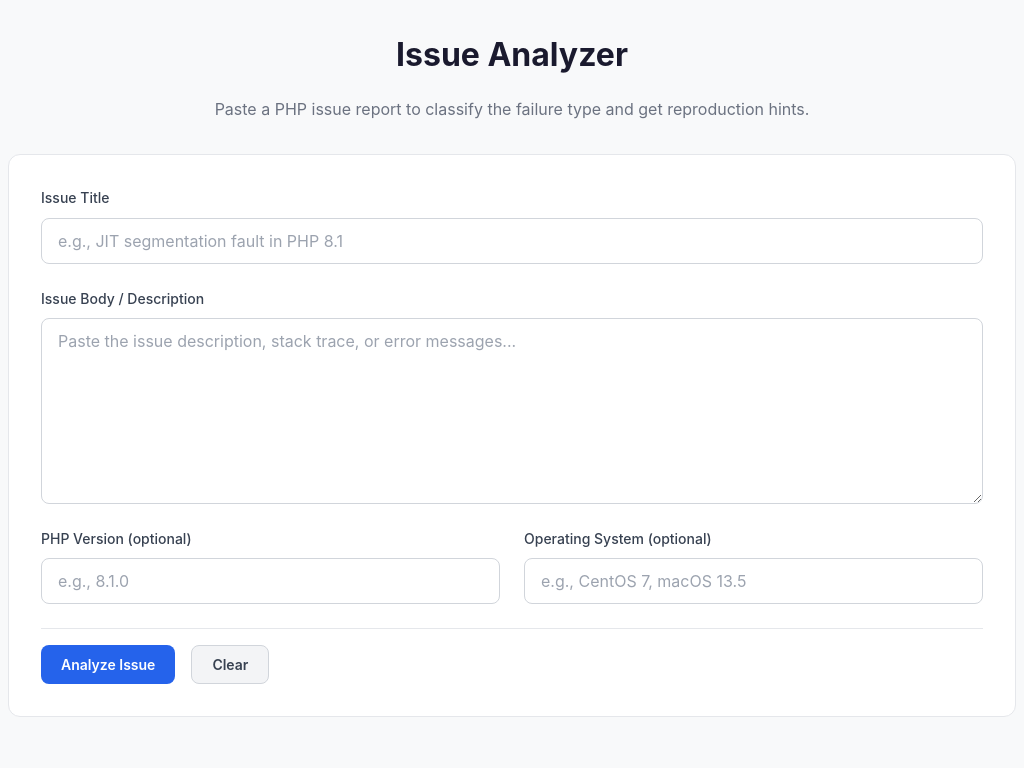
Test: IssueAnalyzer › displays error message on API failure
Type "Test issue" into the field labelled "Issue Title" at (512, 241), box [41, 218, 983, 264]
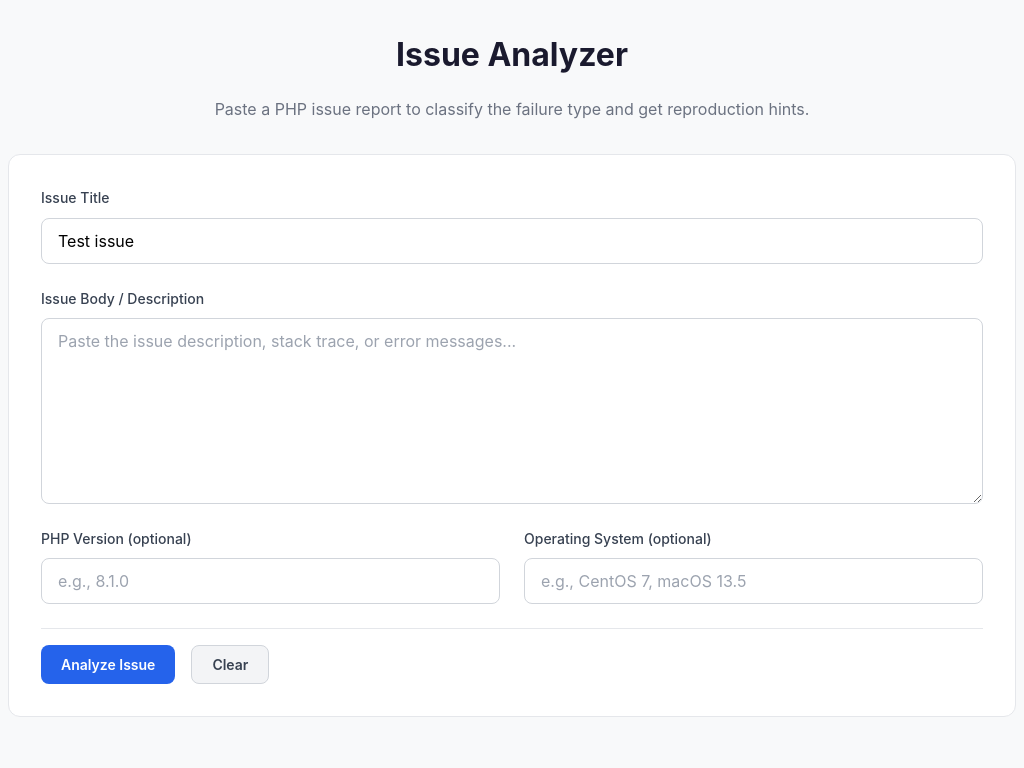
Replace the text in the text box labelled "Issue Body / Description" with "Test body" at (512, 411), box [41, 318, 983, 504]
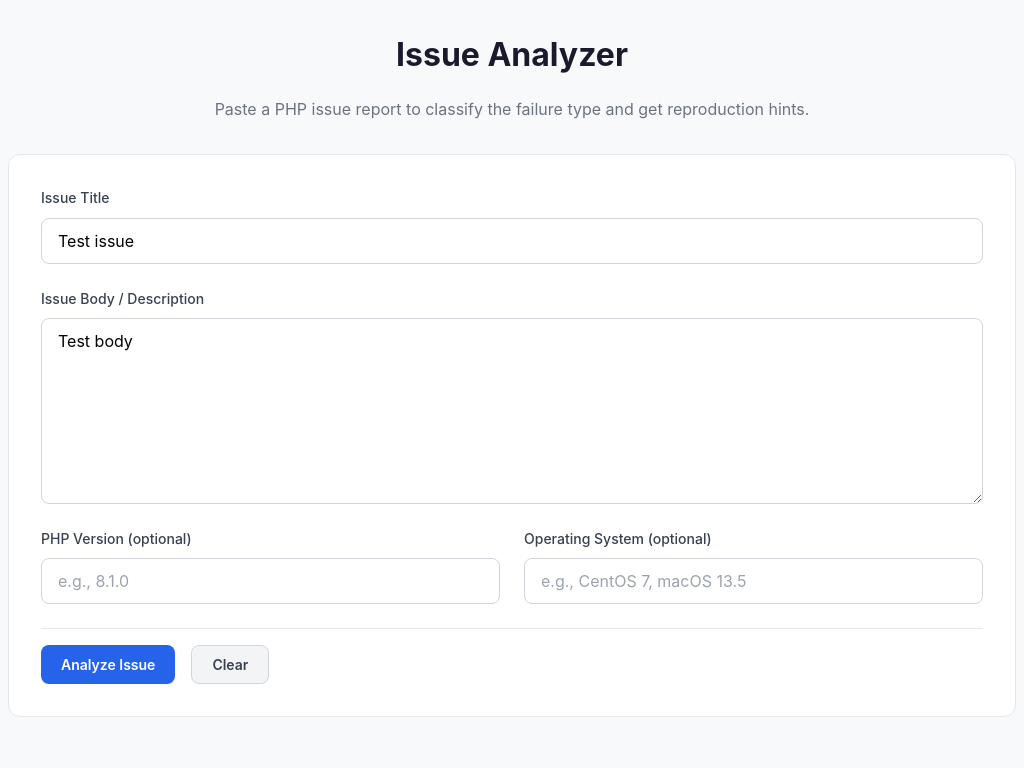
Click the button "Analyze Issue" at (108, 665), box [41, 645, 175, 684]
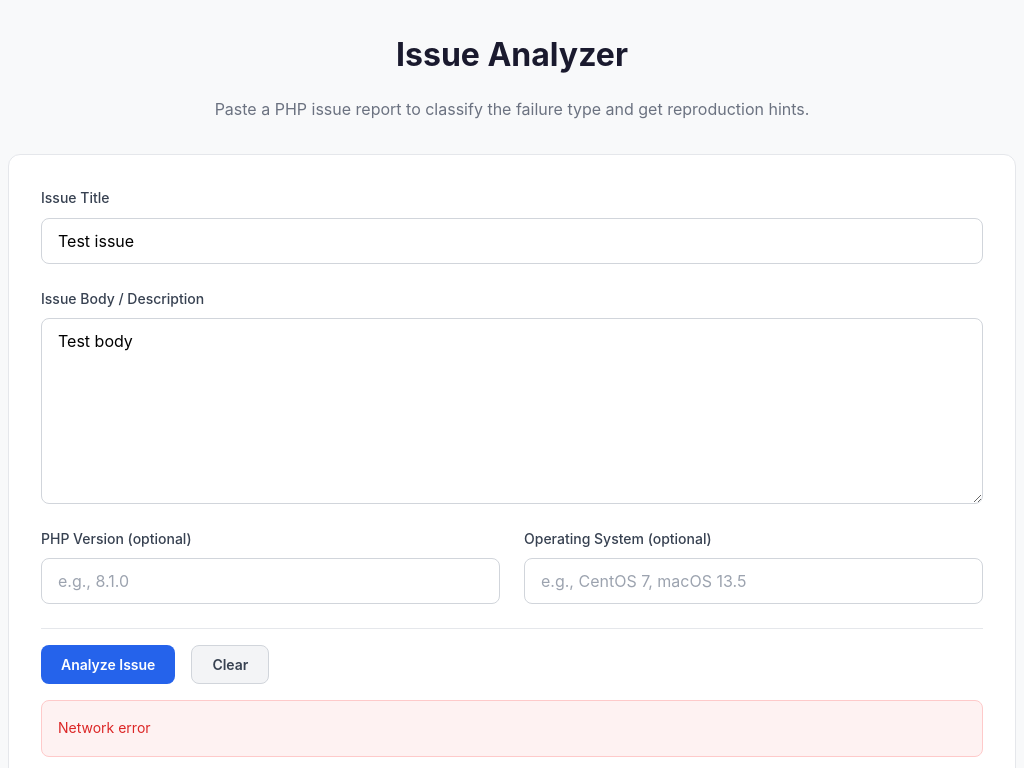
Now the text "Network error" is shown, box [41, 700, 983, 757]
